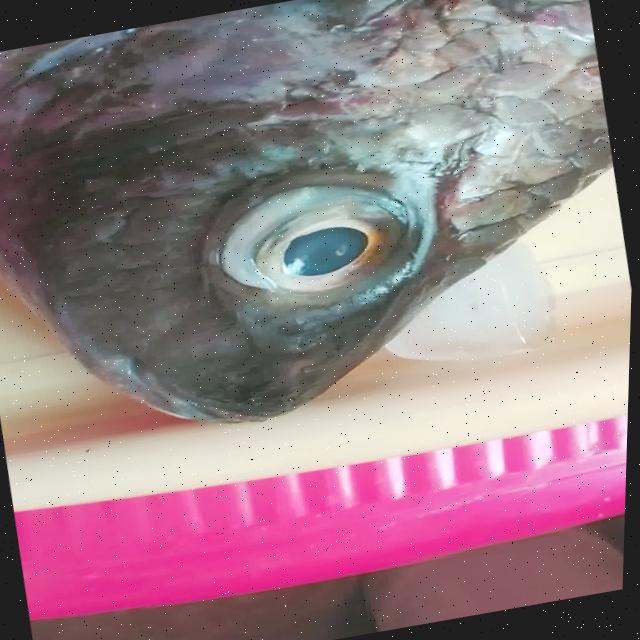Fresh: (159, 120, 505, 353)
